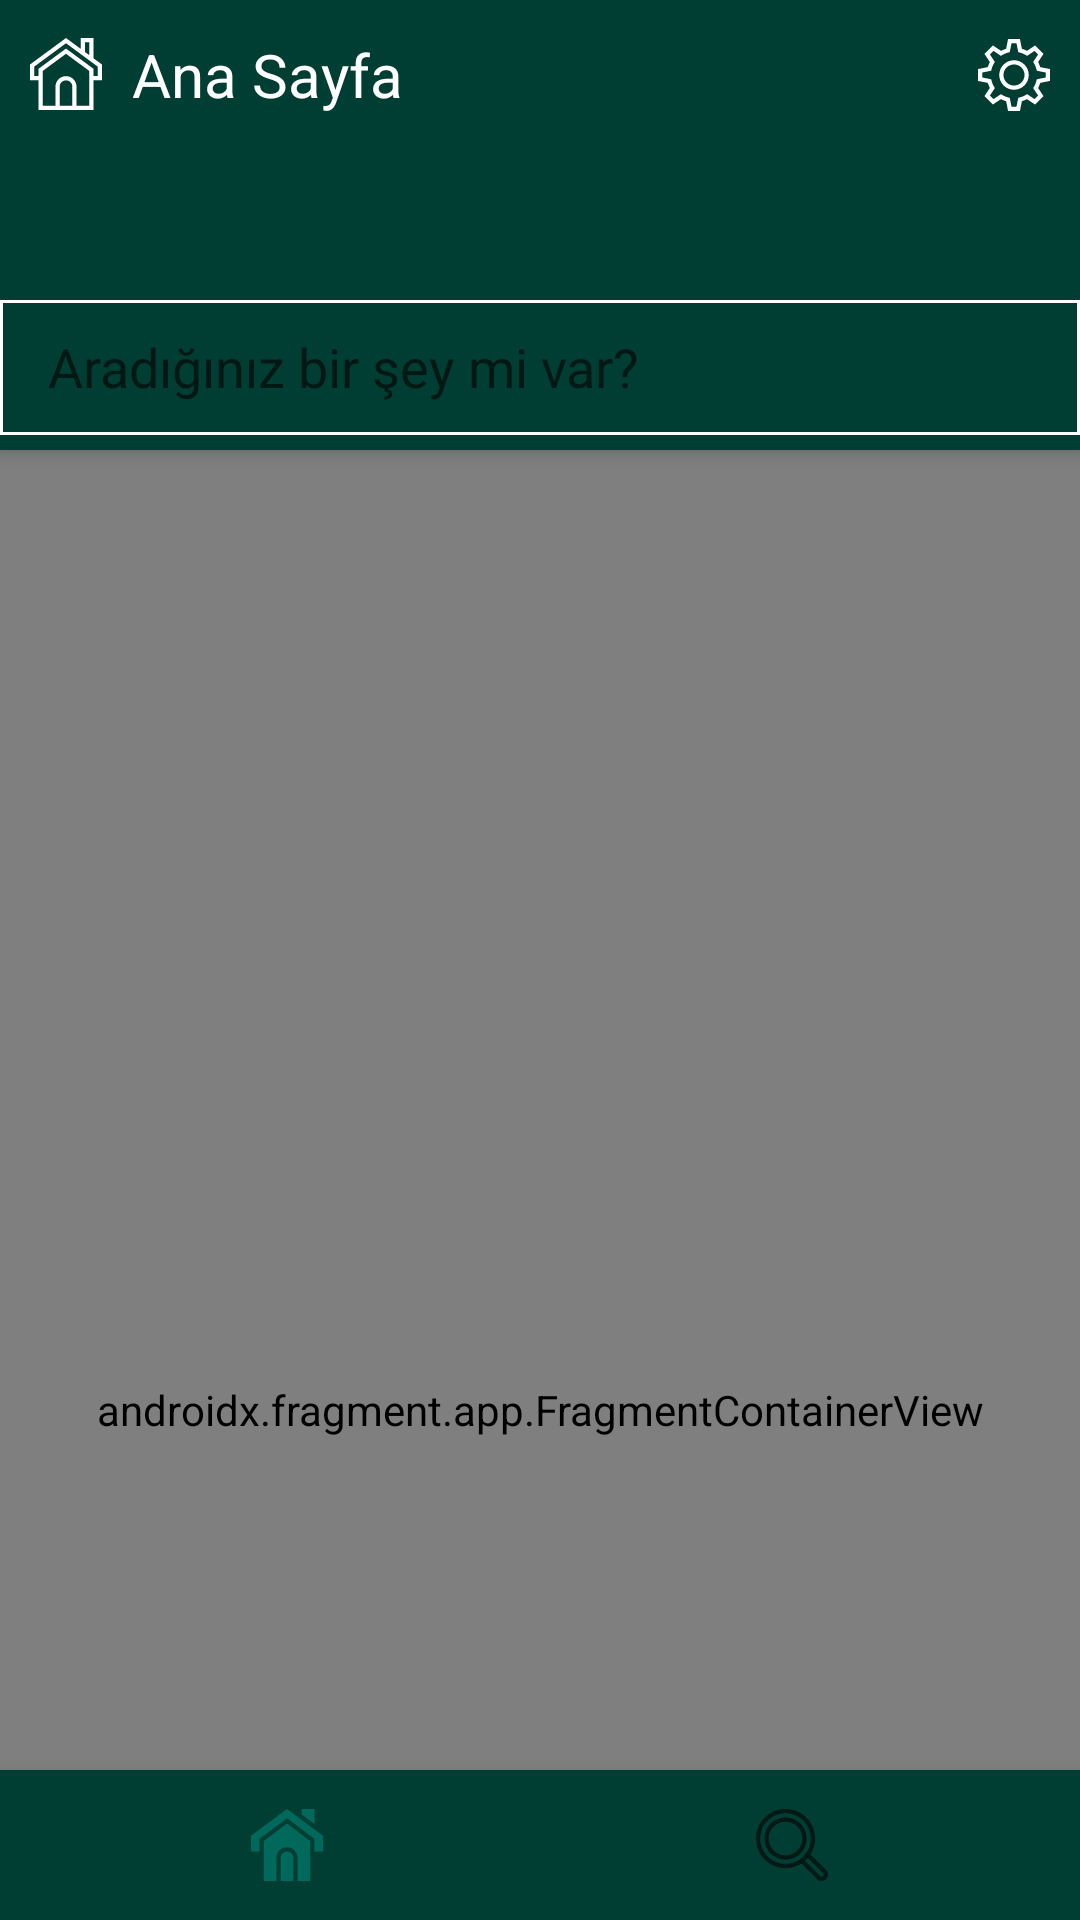

Icon bounding boxes for this 1080 x 1920 phone screenshot, format (x1, y1, x2, y2):
pref: (978, 39, 1050, 111)
